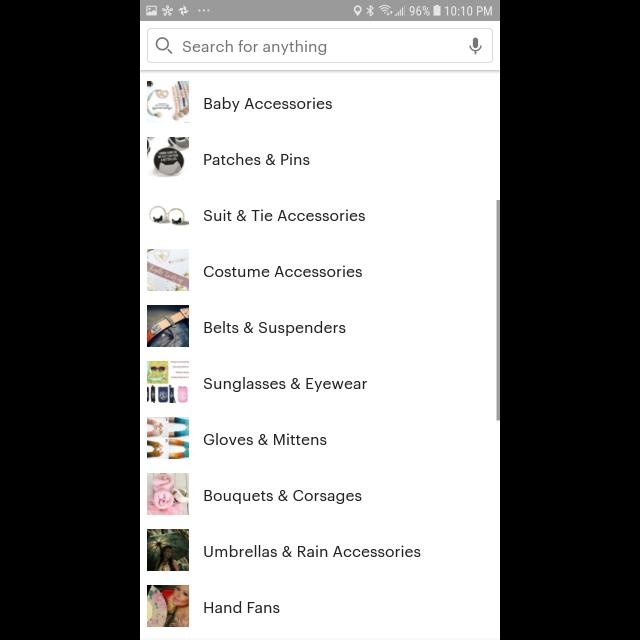icon: (156, 37, 172, 54), (470, 37, 482, 54)
image: (147, 585, 189, 627), (147, 529, 189, 571), (147, 473, 189, 515), (147, 417, 189, 459), (147, 361, 189, 403), (147, 305, 189, 347), (147, 249, 189, 291), (147, 81, 189, 123), (147, 137, 189, 177), (149, 206, 189, 226)
input: (147, 28, 493, 64)
text: (204, 545, 420, 557), (183, 40, 327, 56), (205, 378, 368, 392), (205, 490, 362, 504), (204, 322, 346, 336), (204, 210, 366, 222), (204, 265, 362, 277), (204, 98, 332, 112), (205, 433, 328, 445), (204, 153, 310, 165), (204, 600, 280, 614)
uppertaskbar: (140, 1, 500, 22)
